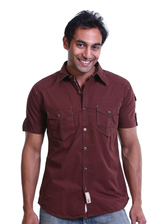clothoes: (22, 58, 142, 218)
